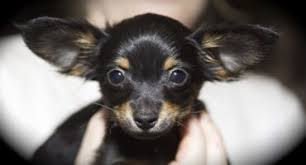chihuahua: (8, 6, 283, 165)
